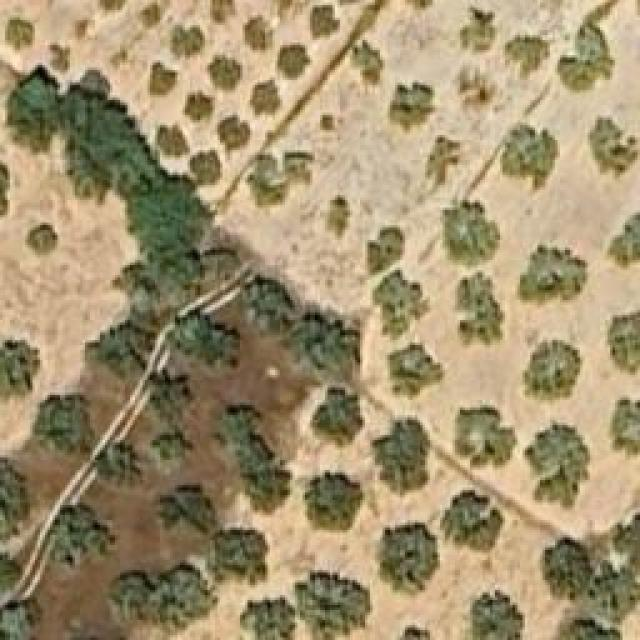Tree: (522, 417, 590, 509), (128, 168, 204, 248), (298, 570, 373, 640), (378, 522, 441, 600), (373, 418, 433, 498), (290, 315, 362, 381), (515, 245, 588, 308), (440, 198, 500, 268), (440, 490, 505, 553), (500, 122, 560, 190), (8, 73, 64, 145), (453, 273, 506, 348), (455, 408, 518, 468), (523, 340, 583, 403), (203, 530, 266, 590), (90, 320, 155, 378), (213, 410, 268, 478), (148, 563, 211, 622), (48, 507, 111, 565), (305, 472, 365, 530), (32, 395, 90, 455), (588, 115, 638, 183), (175, 315, 238, 368), (538, 540, 594, 599), (310, 388, 365, 448), (238, 585, 297, 639), (158, 485, 218, 537), (243, 272, 295, 331), (383, 343, 435, 396), (105, 575, 160, 625), (0, 337, 40, 405), (377, 275, 423, 334), (473, 590, 526, 640), (0, 460, 30, 548), (420, 135, 466, 189), (590, 565, 637, 617), (387, 83, 435, 133), (460, 3, 503, 56), (503, 38, 556, 81), (605, 213, 640, 273), (565, 28, 603, 83), (607, 309, 640, 372), (98, 442, 142, 488), (245, 155, 286, 204), (160, 25, 205, 68), (148, 430, 190, 476), (350, 40, 390, 86), (610, 397, 640, 455), (150, 374, 189, 416), (115, 263, 157, 302), (0, 600, 40, 640), (285, 143, 319, 190), (368, 228, 403, 273), (562, 617, 629, 640), (460, 70, 495, 113), (612, 515, 640, 568), (275, 40, 310, 80), (188, 148, 223, 188), (245, 15, 275, 60), (208, 55, 243, 93), (218, 115, 253, 150), (155, 123, 190, 156), (328, 195, 351, 243), (308, 5, 341, 38), (5, 17, 33, 55), (148, 63, 178, 96), (252, 78, 280, 113), (0, 553, 18, 603), (28, 225, 58, 253), (185, 90, 215, 118), (212, 0, 232, 22), (320, 115, 335, 130)
